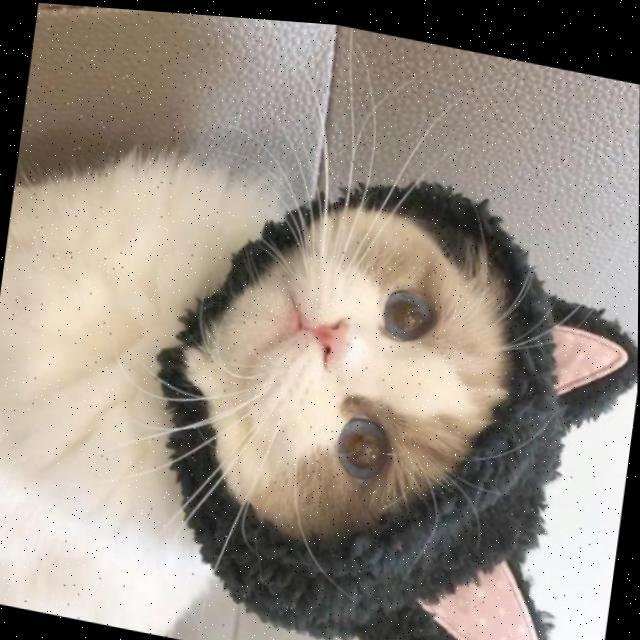Cats: (0, 135, 523, 640)
